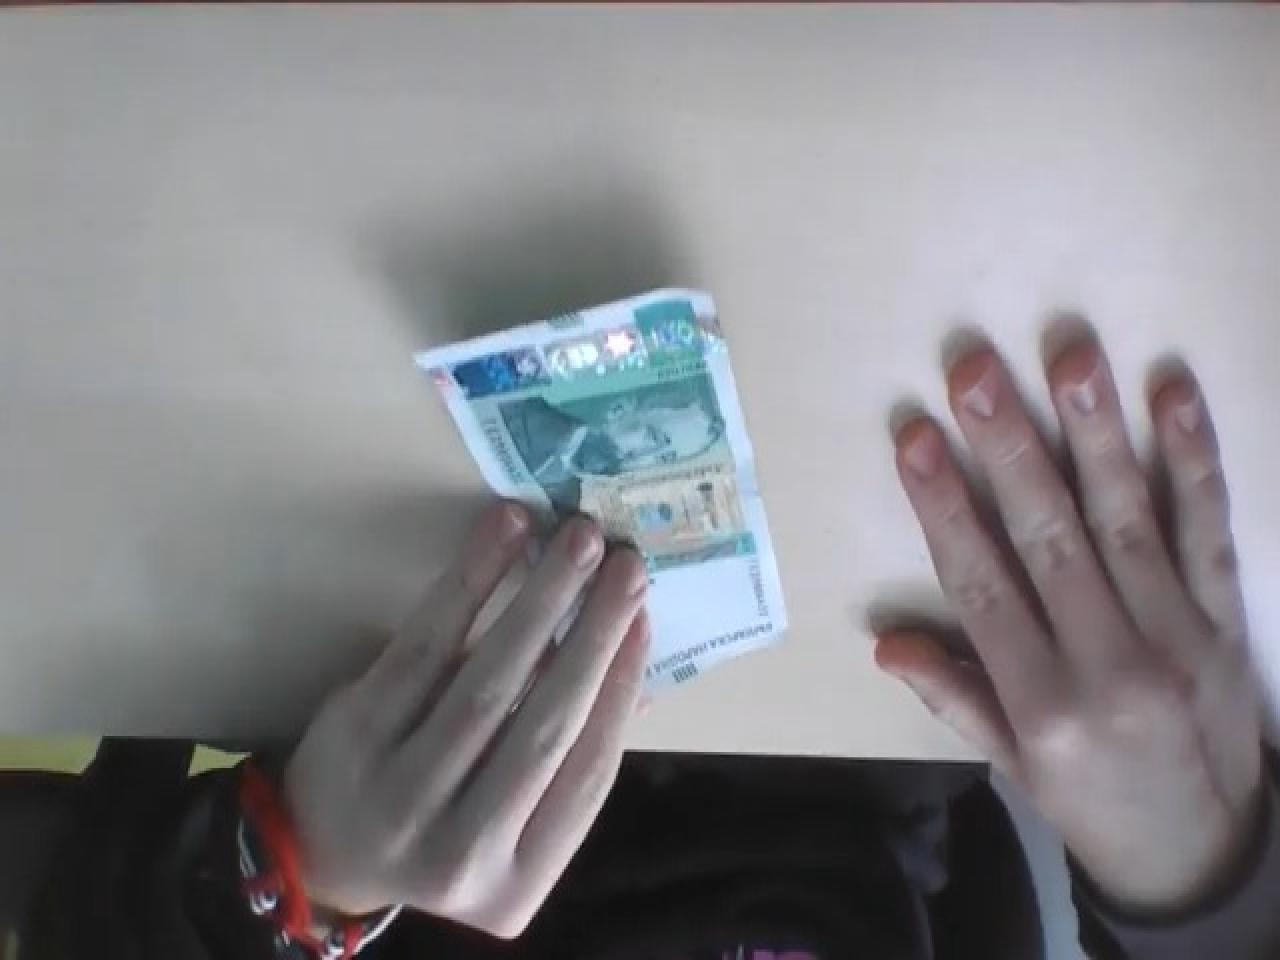100leva: (414, 285, 790, 696)
